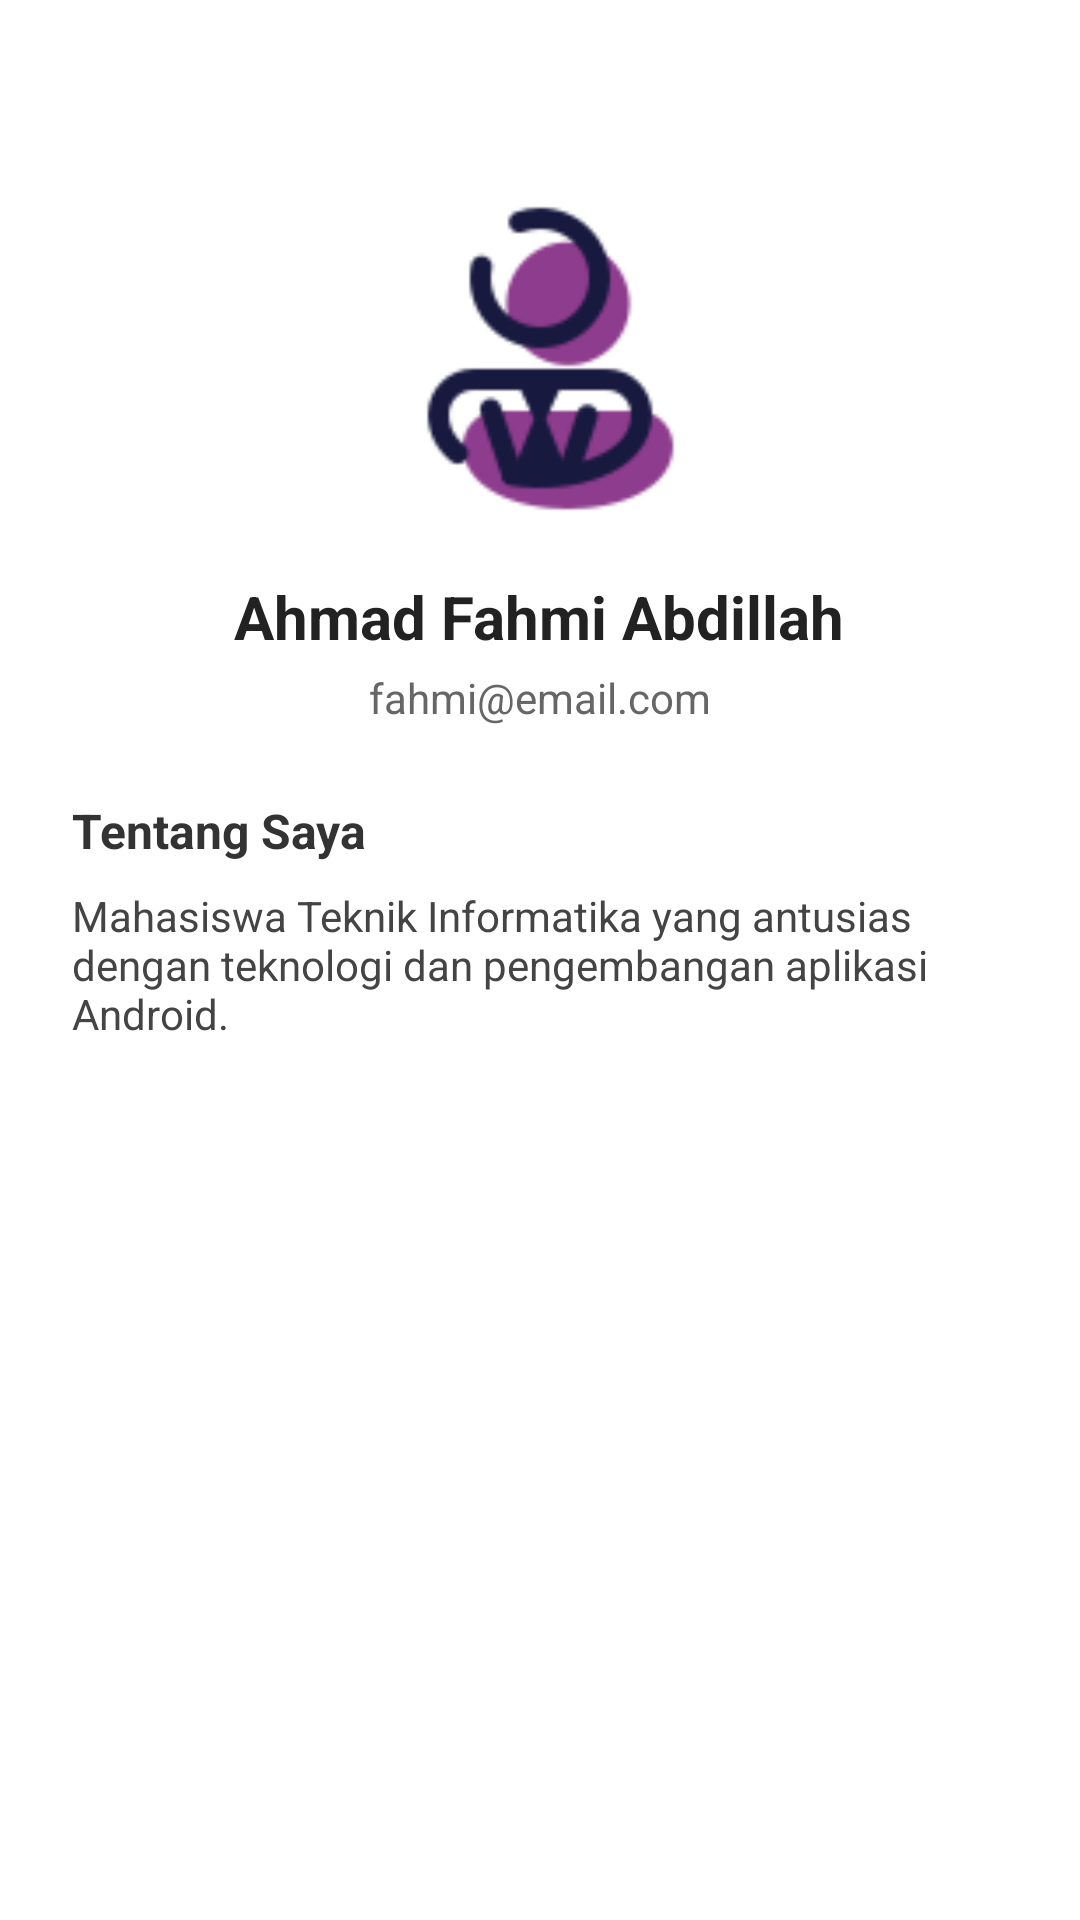

Locate icon controls on the screen. Image size 1080×1920, boxes as detection(x1, y1, x2, y2).
profile: detection(427, 207, 674, 510)
